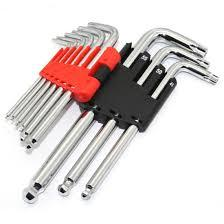wrench: (21, 26, 199, 204), (56, 45, 209, 196), (79, 60, 218, 199), (22, 21, 118, 153), (18, 26, 105, 141), (15, 30, 94, 131), (13, 32, 87, 125), (5, 35, 77, 122), (3, 37, 70, 119)
